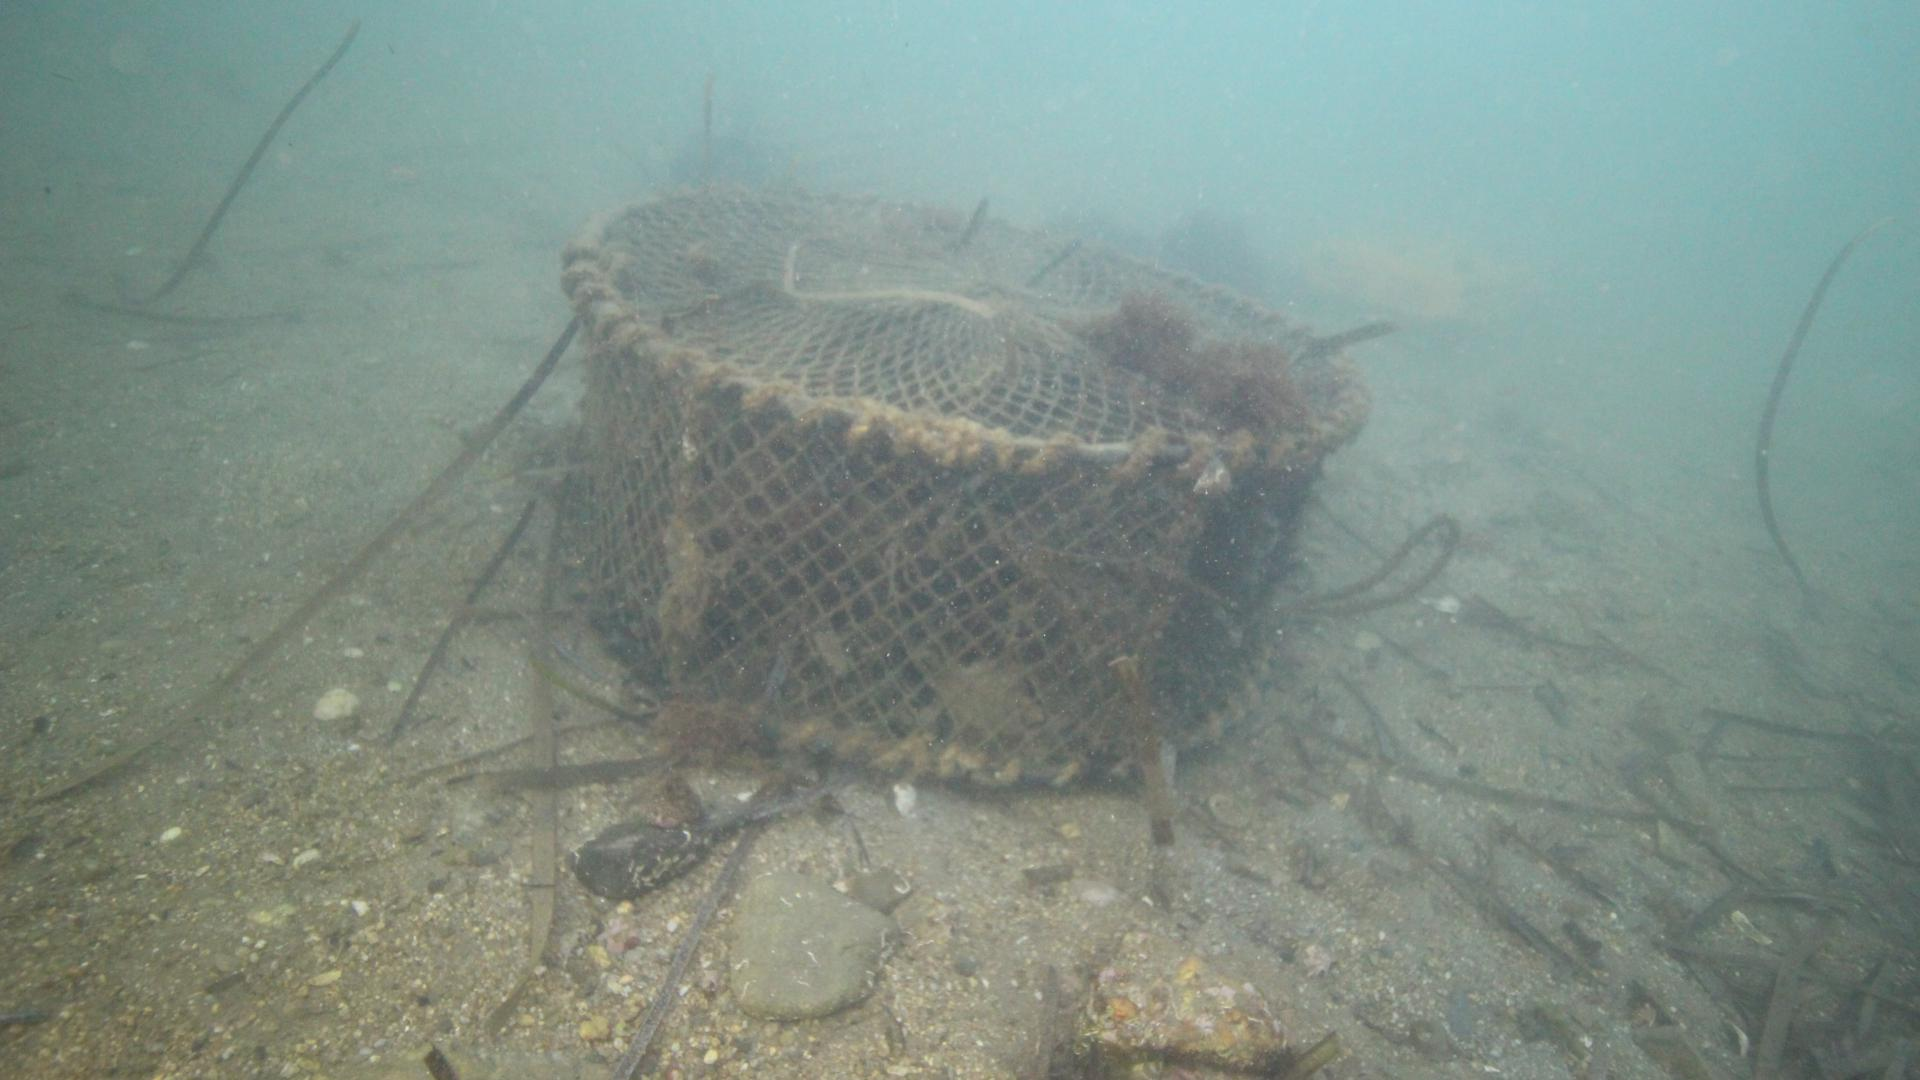circular fish trap: (553, 179, 1371, 786)
rope: (1300, 510, 1464, 616)
